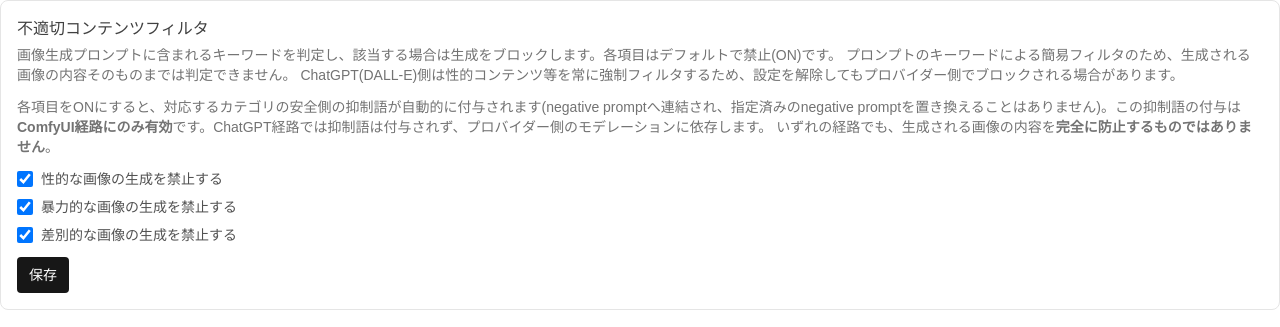
Test case: ProjectImageContentFilterSettingsForm › チェックを外した項目を禁止解除として送り、保存したことを示す
Click the checkbox labelled "暴力的な画像の生成を禁止する" at (25, 207), box top-left (17, 199), bottom-right (33, 215)
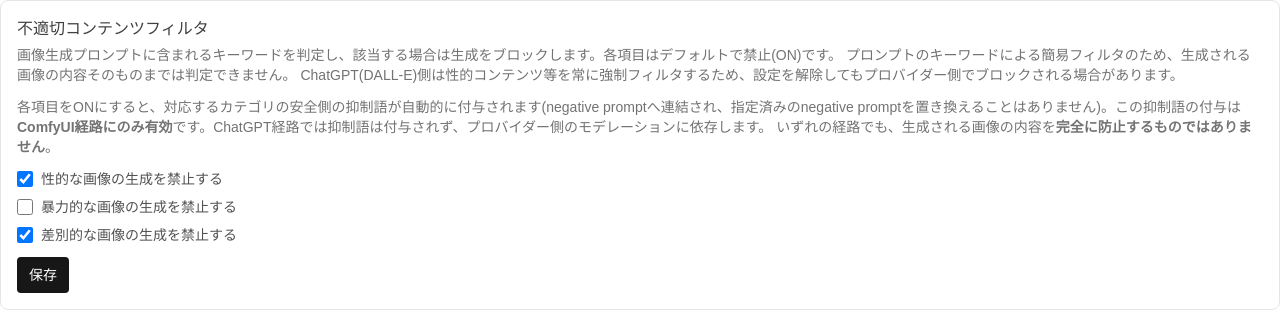
Submit the form "保存", box top-left (17, 171), bottom-right (237, 293)
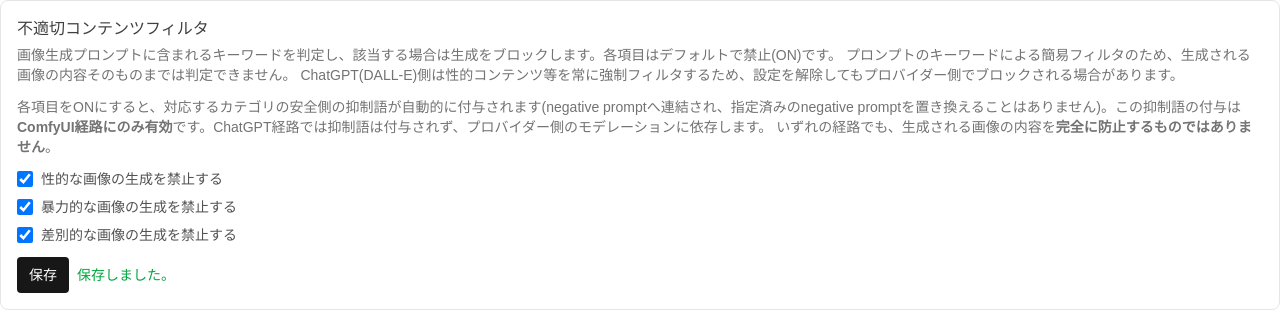
Result: the text "保存しました。" is shown at top-left (77, 265), bottom-right (175, 285)
